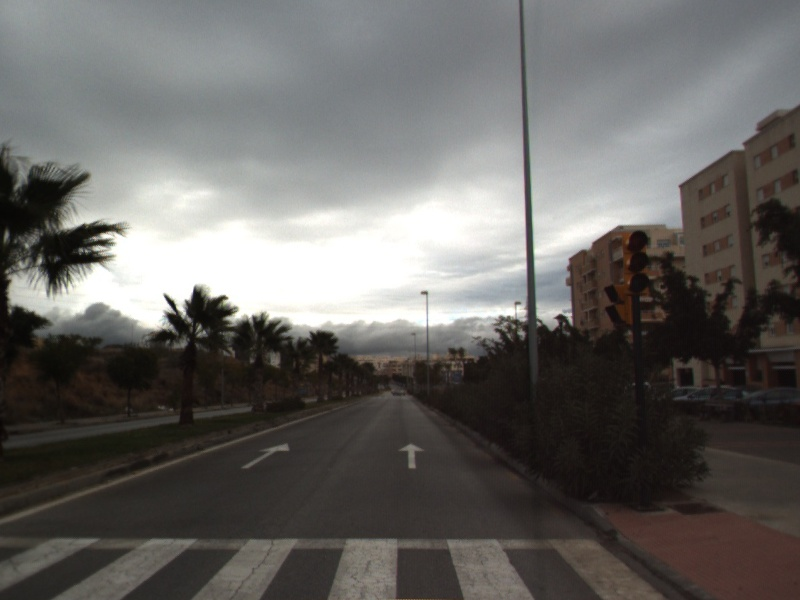STRAIGHT: (240, 441, 292, 470), (396, 441, 427, 470)
